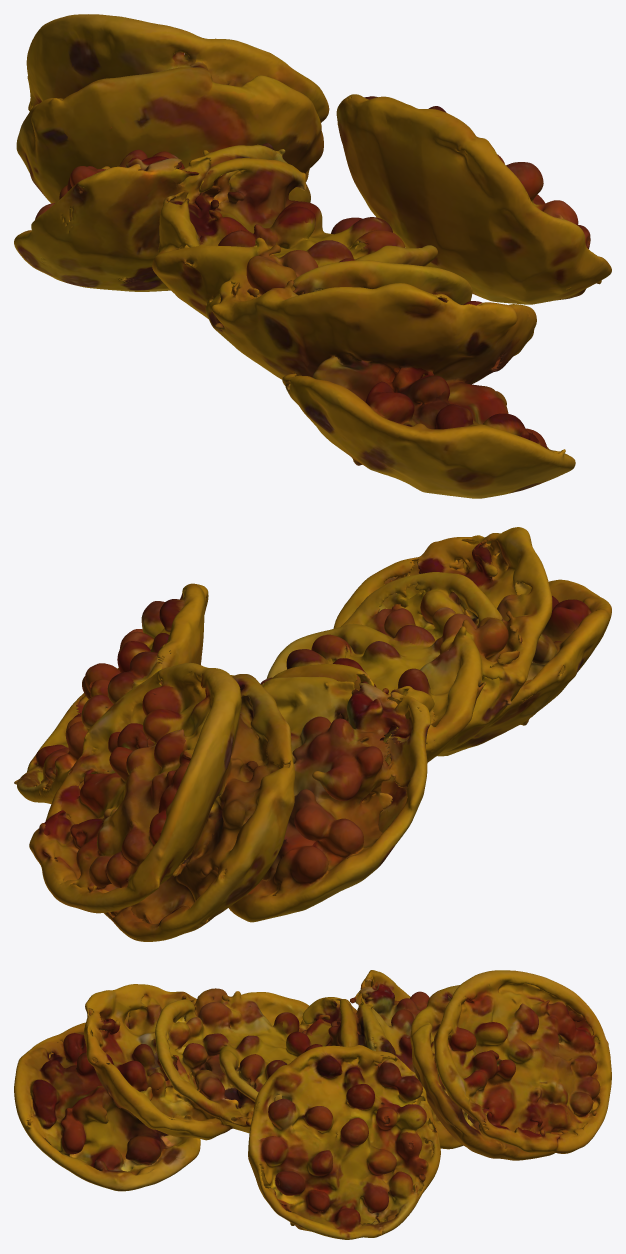
File: dua.fbx
The picture shows the model from 3 angles, top to bottom: view 1: azimuth 30°, elevation 25°; view 2: azimuth 150°, elevation 25°; view 3: azimuth 270°, elevation 25°; orthographic projection. The views are drawn at different scales.
Parts seen in each view (by area): view 1: tripo_node_02a683a6; view 2: tripo_node_02a683a6; view 3: tripo_node_02a683a6.
Boxes of the visible parts, x1,y1,x2,y2 form: tripo_node_02a683a6: (14, 14, 611, 498); tripo_node_02a683a6: (14, 527, 611, 941); tripo_node_02a683a6: (14, 970, 611, 1239).
Size of the model in its own units: 61.08 by 33.25 by 100.
1 material, 1 textured.
